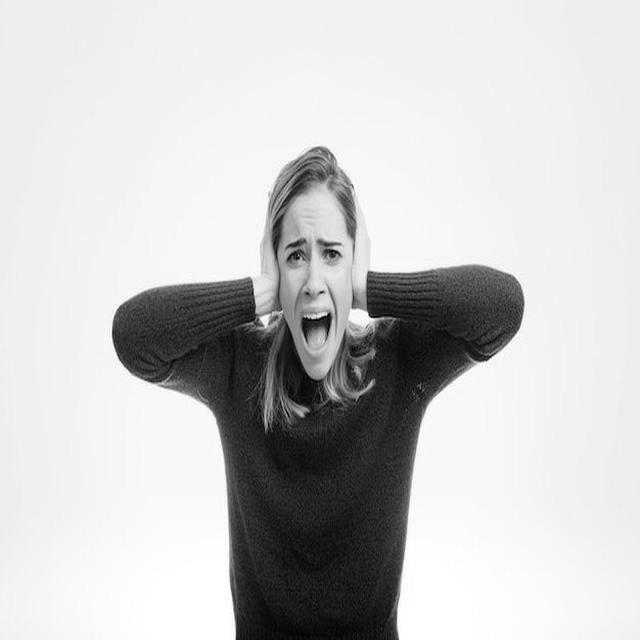Fear: (277, 193, 354, 380)
